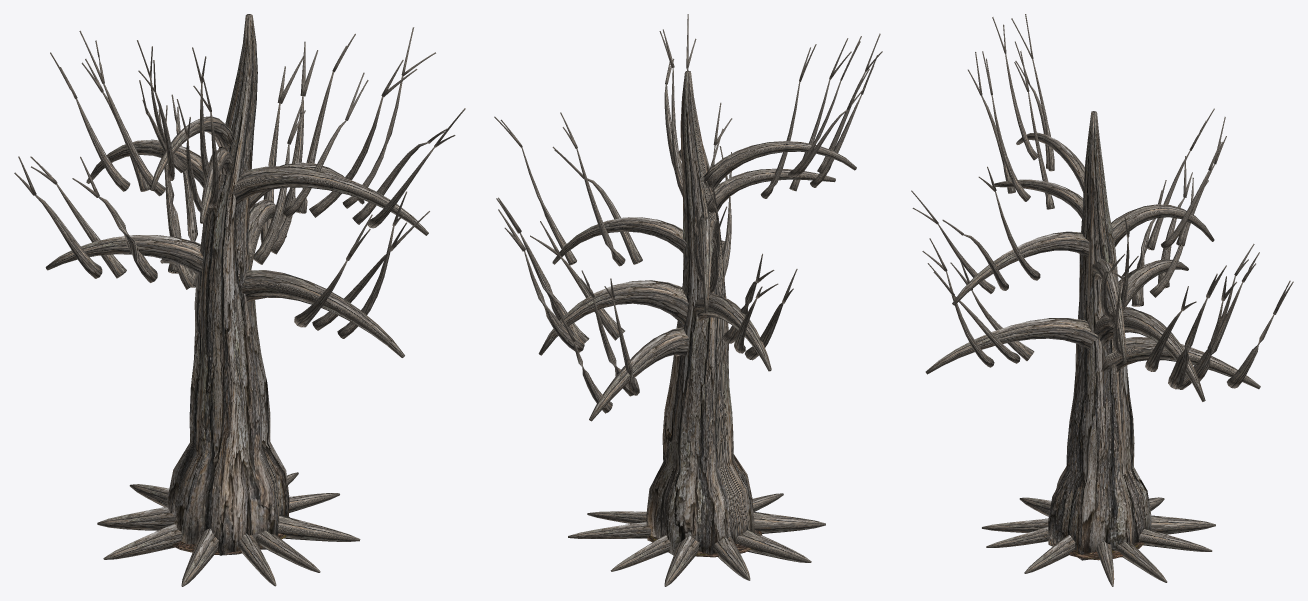
Rendered from ancient-dead-oak-v02.glb.
3 renders of one model, left to right at view 1: azimuth 30°, elevation 25°; view 2: azimuth 150°, elevation 25°; view 3: azimuth 270°, elevation 25°, orthographic. The views are drawn at different scales.
Parts seen in each view (by area): view 1: deeply furrowed winding trunk, massive gnarled bough.008, massive gnarled bough.007, massive gnarled bough.004, massive gnarled bough.003, massive gnarled bough.005, radiating buttress root.009, radiating buttress root.005, radiating buttress root.004, radiating buttress root.006, forked weathered limb.003, radiating buttress root.008 (+20 smaller); view 2: deeply furrowed winding trunk, massive gnarled bough.001, massive gnarled bough.002, massive gnarled bough.005, massive gnarled bough, massive gnarled bough.004, massive gnarled bough.006, radiating buttress root.005, radiating buttress root.006, massive gnarled bough.003, radiating buttress root.001, radiating buttress root.003 (+12 smaller); view 3: deeply furrowed winding trunk, massive gnarled bough.007, massive gnarled bough.001, massive gnarled bough.008, massive gnarled bough.002, massive gnarled bough.003, massive gnarled bough, massive gnarled bough.004, massive gnarled bough.006, radiating buttress root.003, radiating buttress root.002, massive gnarled bough.005 (+12 smaller).
Part boxes in pixels (bbox=[...]): deeply furrowed winding trunk: bbox=[167, 14, 289, 555]; massive gnarled bough.008: bbox=[220, 166, 428, 235]; massive gnarled bough.007: bbox=[241, 270, 404, 357]; massive gnarled bough.004: bbox=[45, 235, 203, 273]; massive gnarled bough.003: bbox=[86, 139, 208, 187]; massive gnarled bough.005: bbox=[150, 116, 234, 191]; radiating buttress root.009: bbox=[278, 515, 360, 541]; radiating buttress root.005: bbox=[103, 523, 182, 559]; radiating buttress root.004: bbox=[97, 506, 175, 530]; radiating buttress root.006: bbox=[181, 528, 218, 586]; forked weathered limb.003: bbox=[271, 96, 303, 254]; radiating buttress root.008: bbox=[255, 530, 320, 572]; deeply furrowed winding trunk: bbox=[646, 70, 754, 555]; massive gnarled bough.001: bbox=[538, 280, 688, 355]; massive gnarled bough.002: bbox=[589, 327, 689, 421]; massive gnarled bough.005: bbox=[703, 141, 856, 189]; massive gnarled bough: bbox=[552, 217, 686, 264]; massive gnarled bough.004: bbox=[693, 293, 771, 371]; massive gnarled bough.006: bbox=[707, 168, 835, 213]; radiating buttress root.005: bbox=[735, 529, 811, 562]; radiating buttress root.006: bbox=[753, 511, 825, 533]; massive gnarled bough.003: bbox=[695, 216, 715, 313]; radiating buttress root.001: bbox=[568, 522, 651, 538]; radiating buttress root.003: bbox=[664, 535, 699, 586]; deeply furrowed winding trunk: bbox=[1048, 111, 1151, 560]; massive gnarled bough.007: bbox=[925, 318, 1099, 374]; massive gnarled bough.001: bbox=[1094, 306, 1205, 401]; massive gnarled bough.008: bbox=[952, 231, 1089, 305]; massive gnarled bough.002: bbox=[1101, 337, 1260, 389]; massive gnarled bough.003: bbox=[1111, 204, 1214, 246]; massive gnarled bough: bbox=[1092, 259, 1126, 363]; massive gnarled bough.004: bbox=[1118, 259, 1188, 306]; massive gnarled bough.006: bbox=[994, 179, 1082, 218]; radiating buttress root.003: bbox=[1151, 515, 1215, 534]; radiating buttress root.002: bbox=[1138, 528, 1212, 551]; massive gnarled bough.005: bbox=[1016, 132, 1084, 192].
Bounding box in the file's own units: 7.81 × 11.1 × 8.16.
2 materials, 2 textured.
